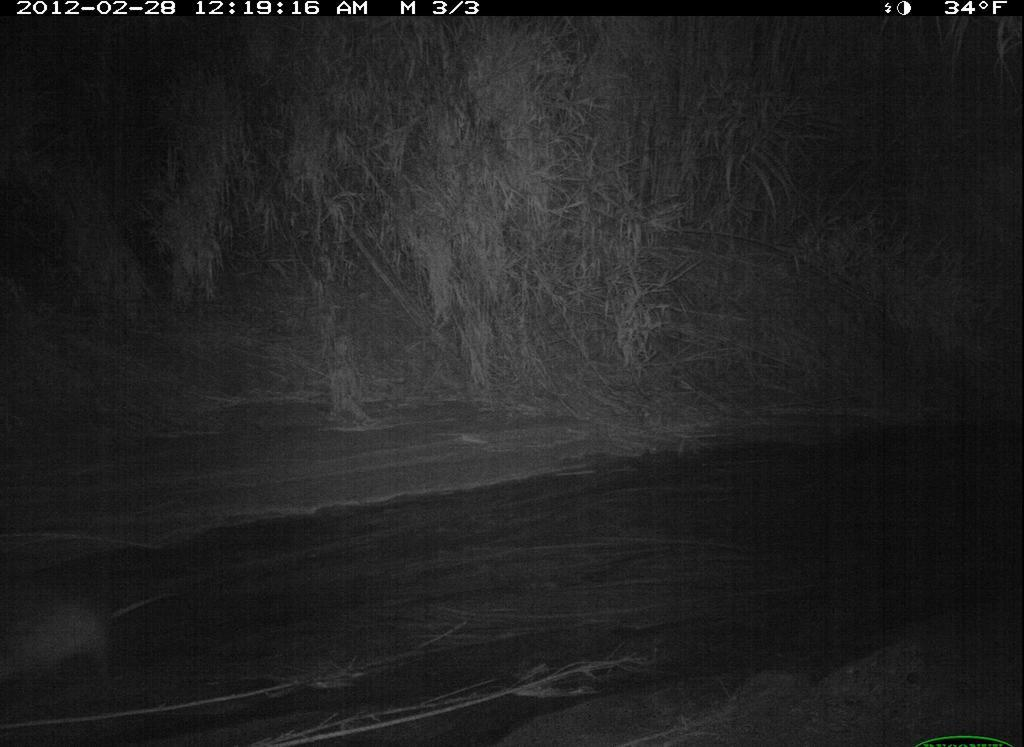opossum: (1, 571, 190, 710)
